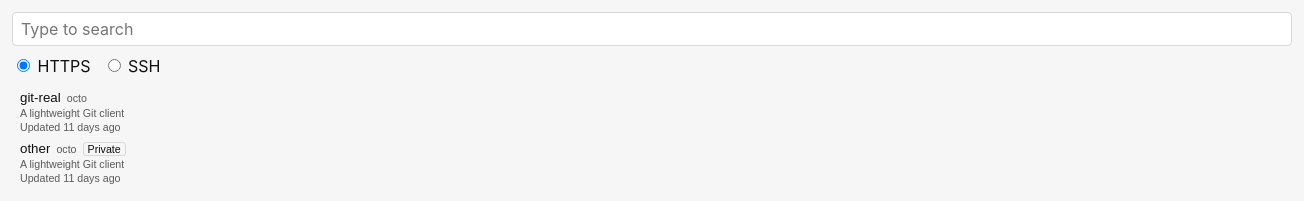
Test: RepoBrowser search › returns to the full list when the query is cleared
Expected: the button with aria-label "Use octo/git-real" is shown, top-left (12, 86), bottom-right (1292, 137)
Type "found" into the search field named "Search repositories" at {"x": 652, "y": 29}, box top-left (12, 12), bottom-right (1292, 46)
Wait 300 ms
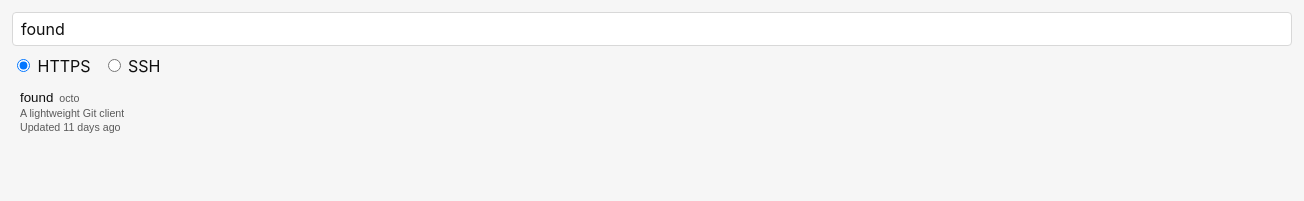
Result: the button with aria-label "Use octo/found" is shown at top-left (12, 86), bottom-right (1292, 137)
Clear the search field named "Search repositories" at {"x": 652, "y": 29}, box top-left (12, 12), bottom-right (1292, 46)
Wait 300 ms
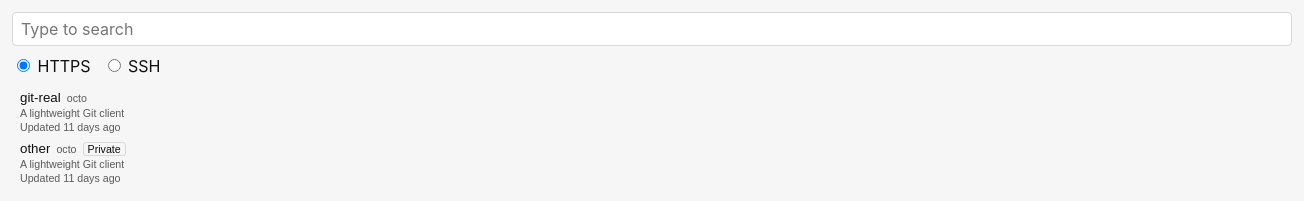
Result: the button with aria-label "Use octo/git-real" is shown at top-left (12, 86), bottom-right (1292, 137)
